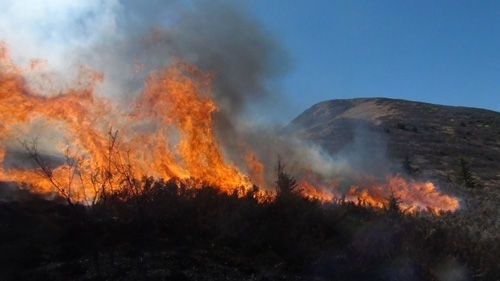fire: (1, 51, 275, 215), (292, 169, 455, 214)
